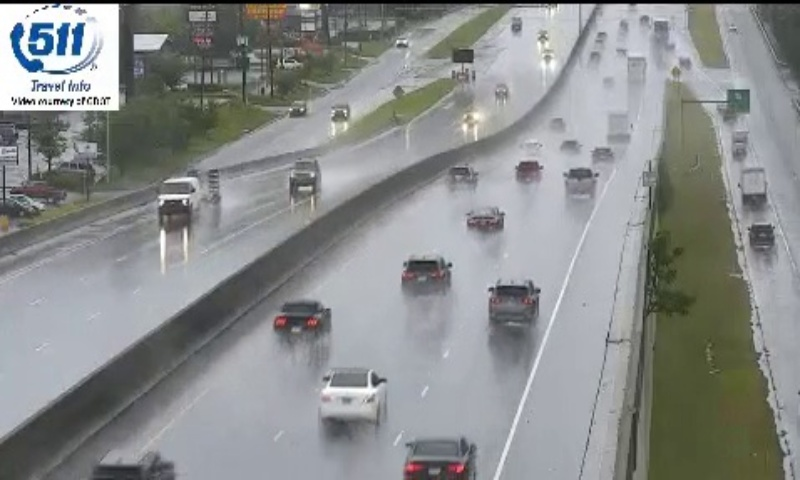car: (317, 371, 386, 419), (403, 436, 478, 480), (487, 278, 538, 323), (274, 300, 331, 340), (401, 257, 450, 299), (465, 205, 503, 232), (564, 169, 597, 196)
